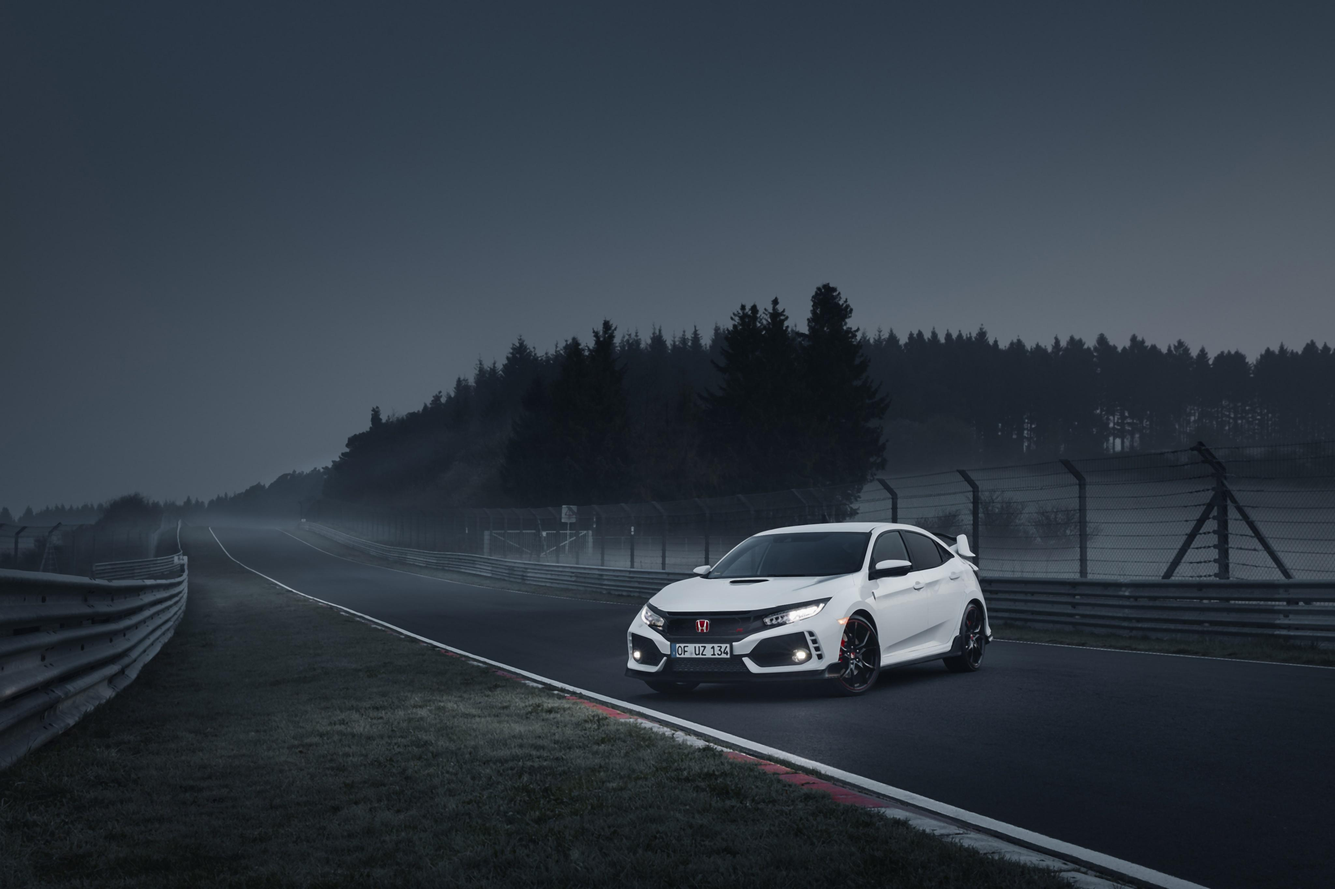Car hood: (648, 575, 858, 614)
Fender - -F-L-: (821, 572, 885, 670)
Fender - -R-L-: (957, 567, 983, 649)
Front bumper: (616, 624, 851, 691)
Headlight - -L-: (760, 599, 832, 628)
Headlight - -R-: (639, 601, 668, 634)
Passenger-s door - -F-L-: (869, 521, 928, 659)
Passenger-s door - -R-L-: (921, 529, 971, 650)
Rear bumper: (980, 603, 1001, 648)
Side bumper - -L-: (874, 642, 971, 673)
Side mirror - -L-: (869, 556, 915, 581)
Side mirror - -R-: (689, 562, 714, 580)
